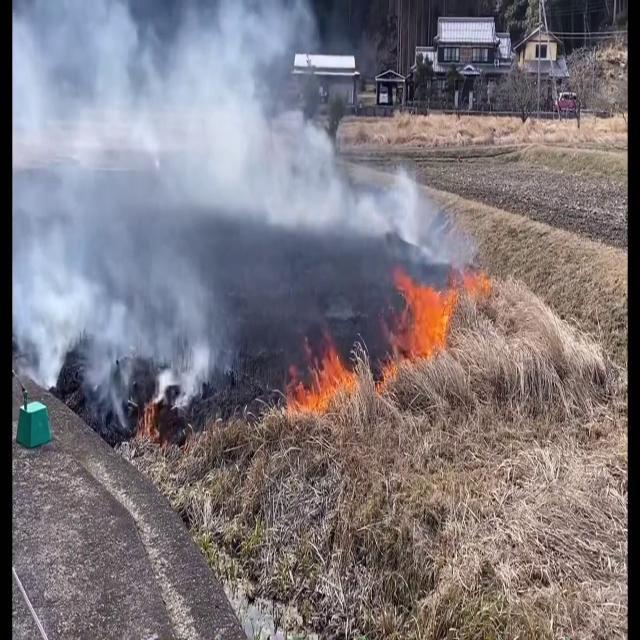Fire: (390, 259, 490, 369), (284, 338, 371, 421)
Smoke: (13, 0, 434, 414)
